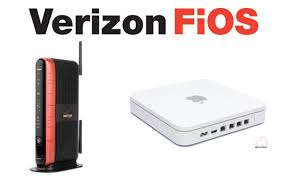Verizon Router: (30, 43, 91, 173)
